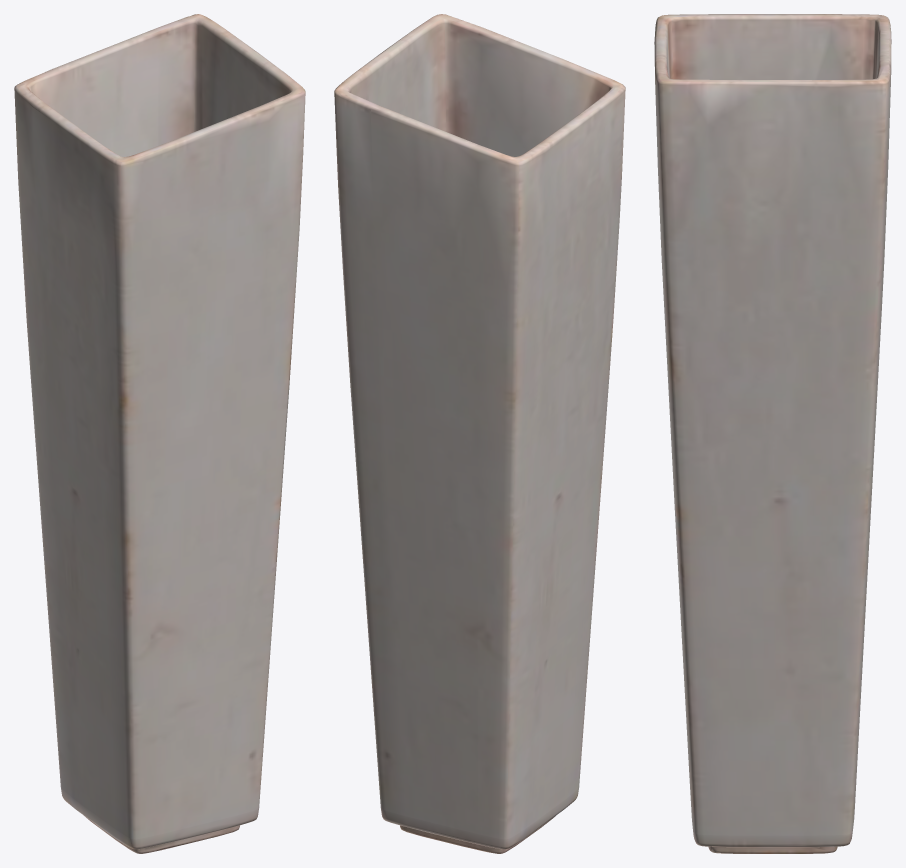
Rendered from ceramic_vase_03.glb.
3 renders of one model, left to right at view 1: azimuth 30°, elevation 25°; view 2: azimuth 150°, elevation 25°; view 3: azimuth 270°, elevation 25°, orthographic. The views are drawn at different scales.
Visible parts, largest first — view 1: ceramic_vase_03; view 2: ceramic_vase_03; view 3: ceramic_vase_03.
Part boxes in pixels (x1,y1,x2,y2): ceramic_vase_03: [14, 14, 305, 853]; ceramic_vase_03: [334, 14, 625, 853]; ceramic_vase_03: [654, 14, 891, 853].
Bounding box in the file's own units: 0.1122 × 0.4144 × 0.1121.
Materials: 1 (1 with a texture image).
